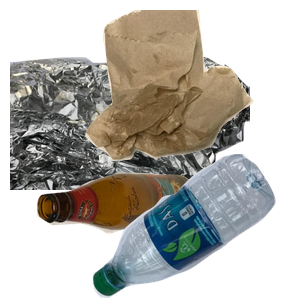glass: (34, 170, 223, 300)
metal: (10, 47, 250, 227)
plastic: (90, 154, 300, 300)
trash: (83, 10, 300, 163)
